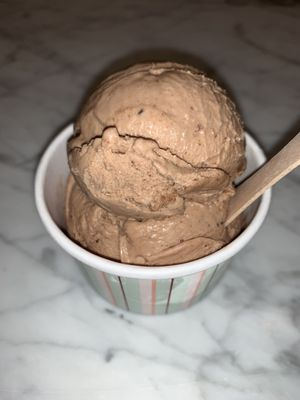sushi: (32, 56, 282, 318)
